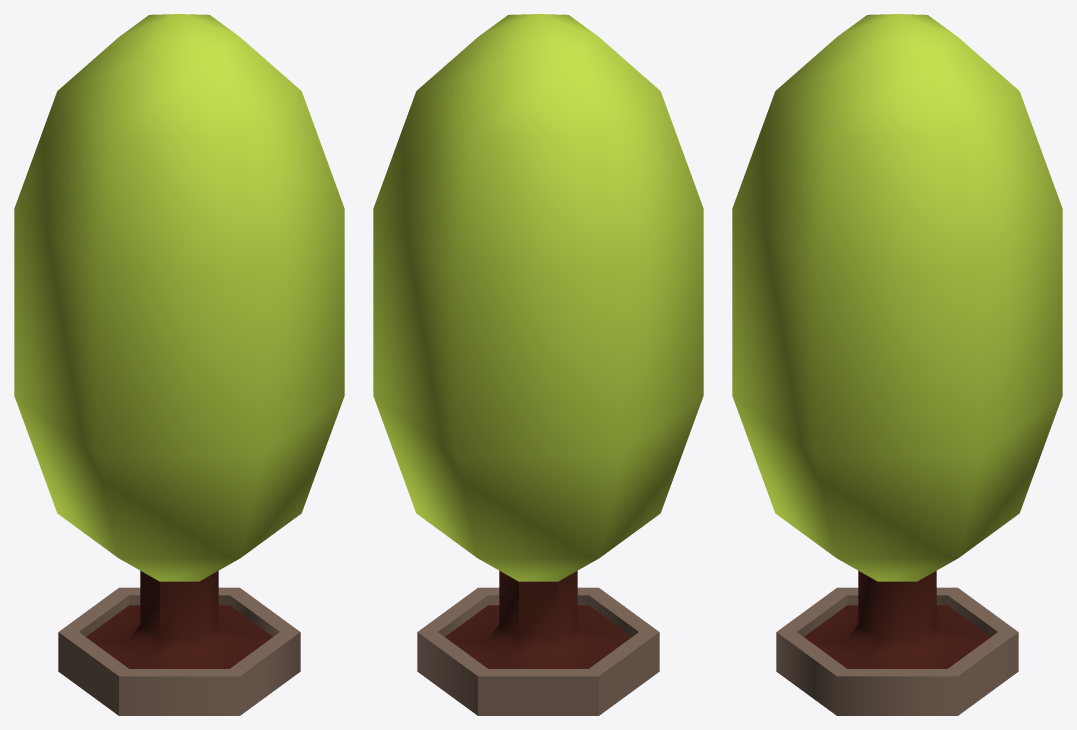
Rendered from PropsCityTree.fbx.
3 renders of one model, left to right at view 1: azimuth 30°, elevation 25°; view 2: azimuth 150°, elevation 25°; view 3: azimuth 270°, elevation 25°, orthographic.
Visible parts, largest first — view 1: Cylinder.009; view 2: Cylinder.009; view 3: Cylinder.009.
Boxes of the visible parts, box(x1,y1,x2,y2) form: Cylinder.009: box(14, 14, 344, 715); Cylinder.009: box(373, 14, 703, 715); Cylinder.009: box(732, 14, 1062, 715).
Bounding box in the file's own units: 31.31 × 79.36 × 36.15.
